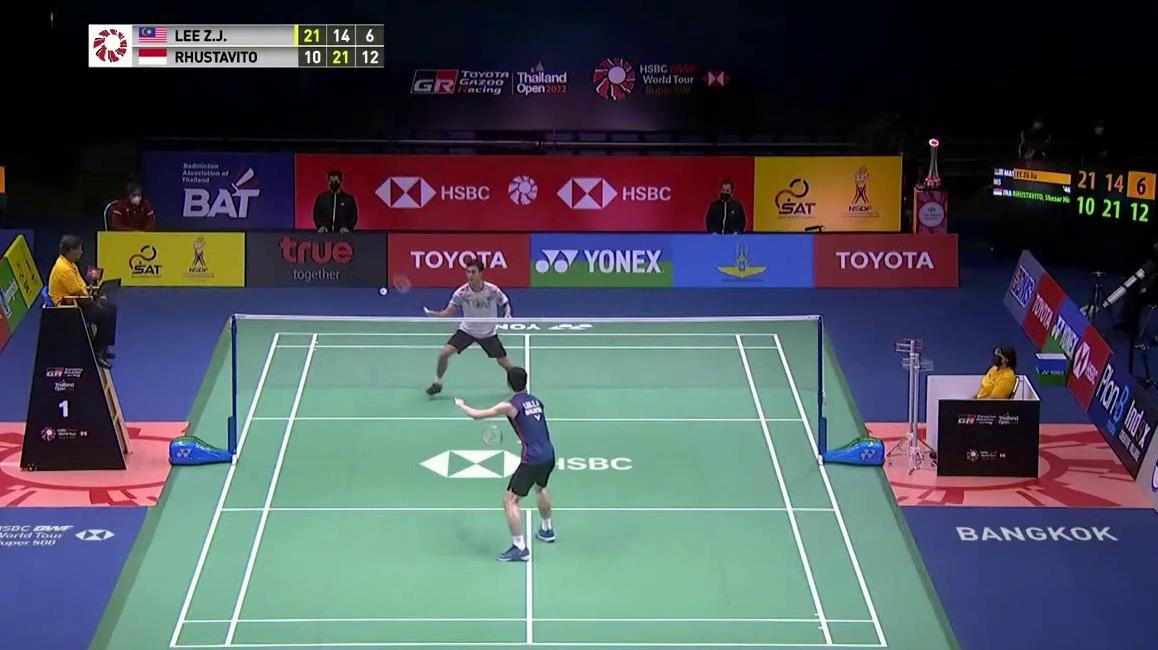racket: (391, 270, 437, 325), (479, 422, 529, 450)
shuttle: (378, 284, 389, 298)
